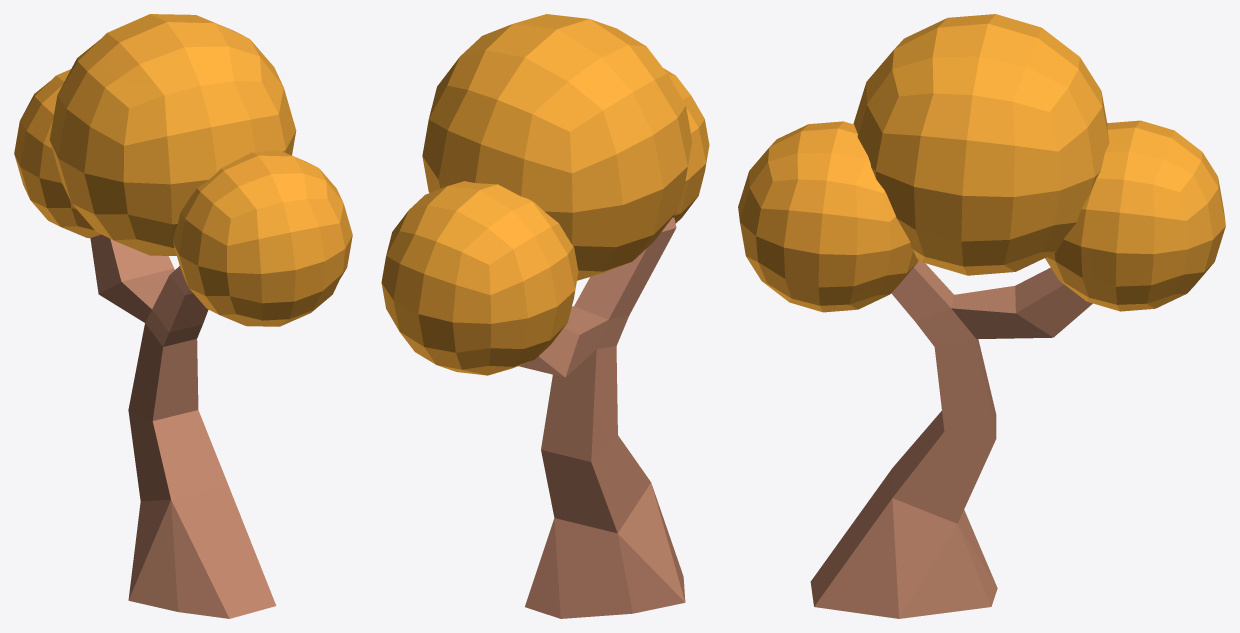
Rendered from TreePackage.fbx_Tree_017.fbx.
The picture shows the model from 3 angles, left to right: view 1: azimuth 30°, elevation 25°; view 2: azimuth 150°, elevation 25°; view 3: azimuth 270°, elevation 25°; orthographic projection. The views are drawn at different scales.
Parts seen in each view (by area): view 1: Cube.007, Plane.005; view 2: Cube.007, Plane.005; view 3: Cube.007, Plane.005.
Part boxes in pixels (<box>): Cube.007: <box>14,14,352,326</box>; Plane.005: <box>90,234,276,618</box>; Cube.007: <box>381,14,709,375</box>; Plane.005: <box>518,217,685,618</box>; Cube.007: <box>738,14,1225,312</box>; Plane.005: <box>810,260,1092,618</box>.
Size of the model in its own units: 207 by 498 by 387.
